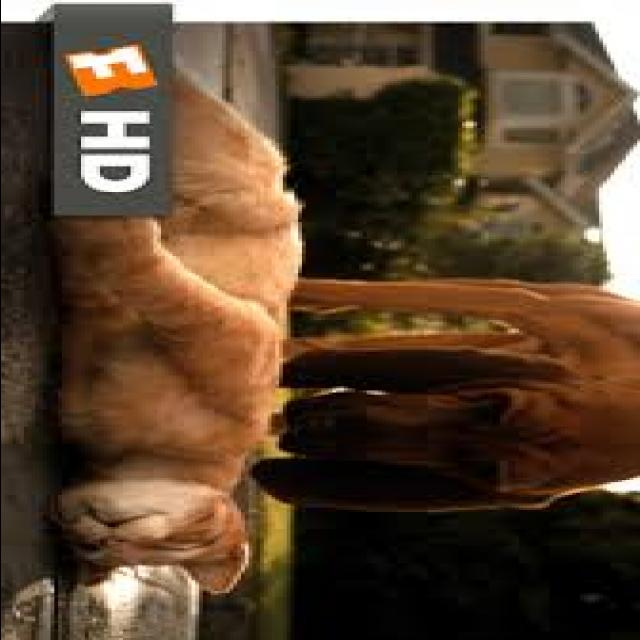cat: (27, 56, 319, 597)
dog: (252, 271, 640, 518)
